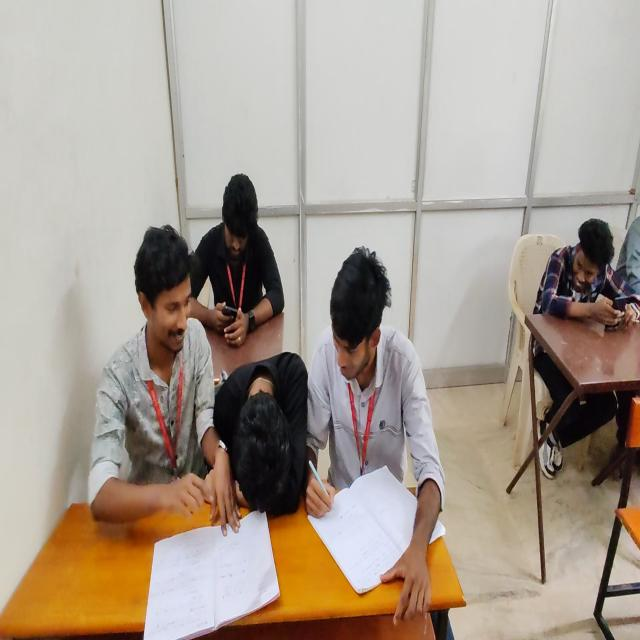reading: (90, 218, 236, 608)
sleeping: (214, 346, 312, 519)
using_mobile: (177, 170, 295, 354), (523, 196, 640, 359)
writing: (302, 242, 448, 640)
